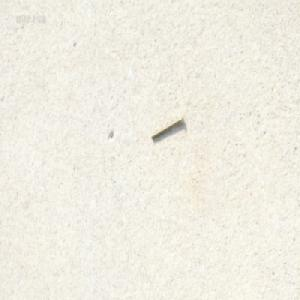Bolt: (150, 112, 183, 141)
